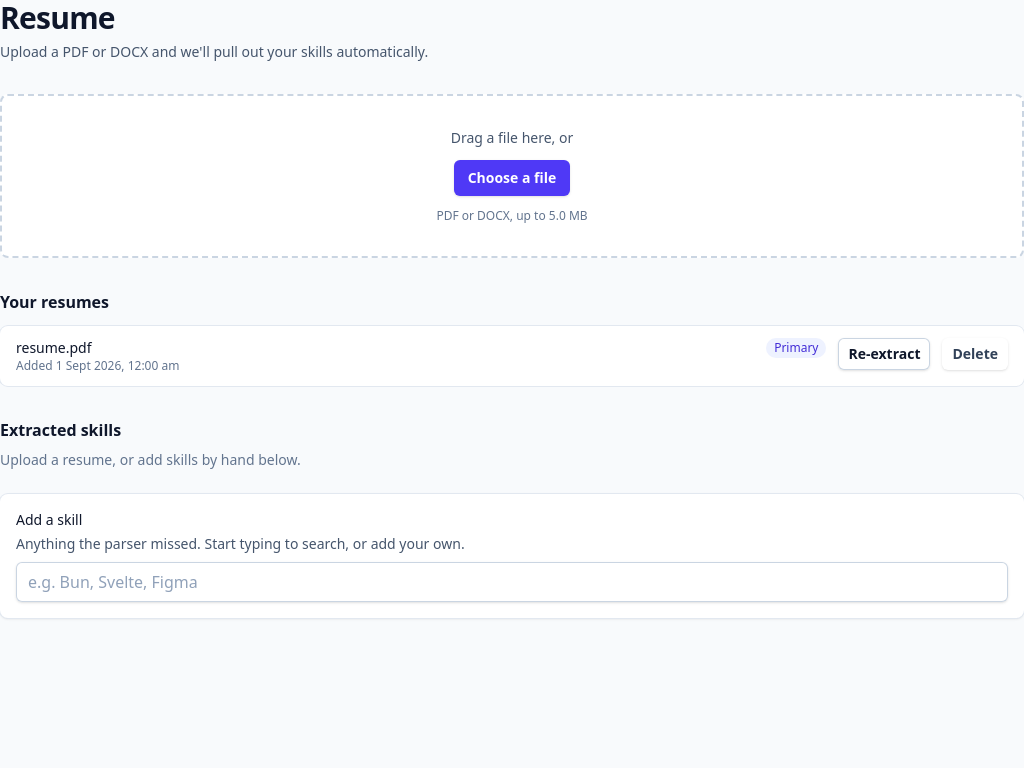
Test: ResumePage › delete › names the consequence and removes the resume on confirm
Click the button "Delete".
click(975, 354)  # box x1=942 y1=338 x2=1008 y2=370
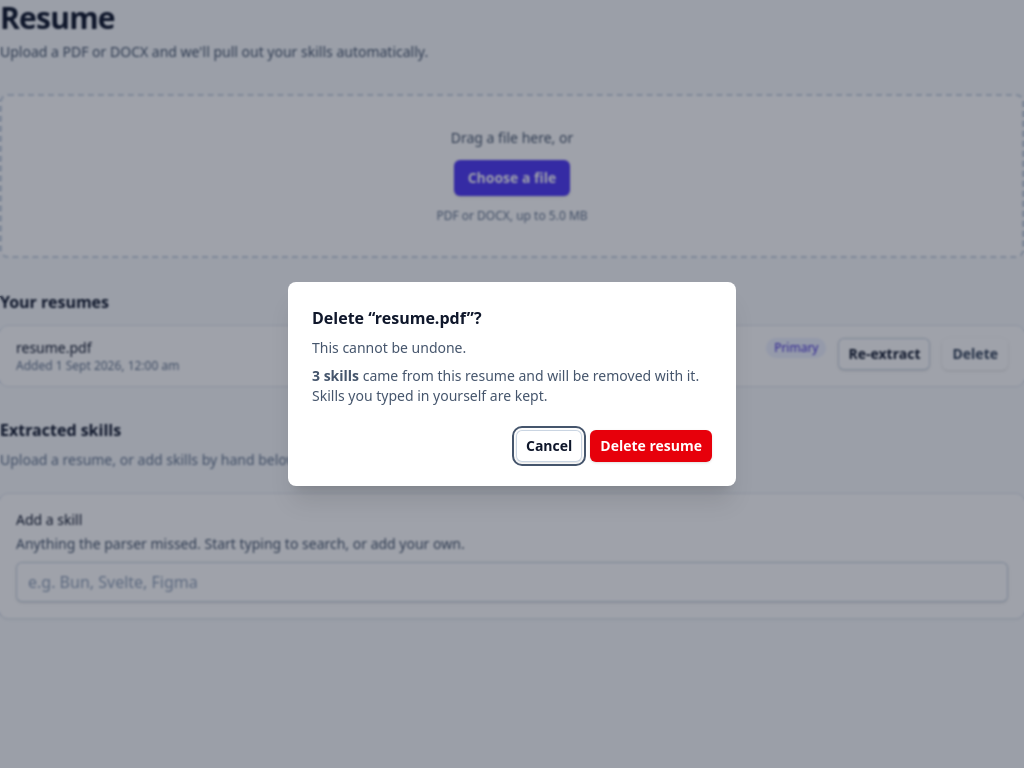
Result: the text "3 skills" is shown at x1=312 y1=366 x2=359 y2=385
Click the button "Delete resume".
click(651, 446)  # box x1=590 y1=430 x2=712 y2=462
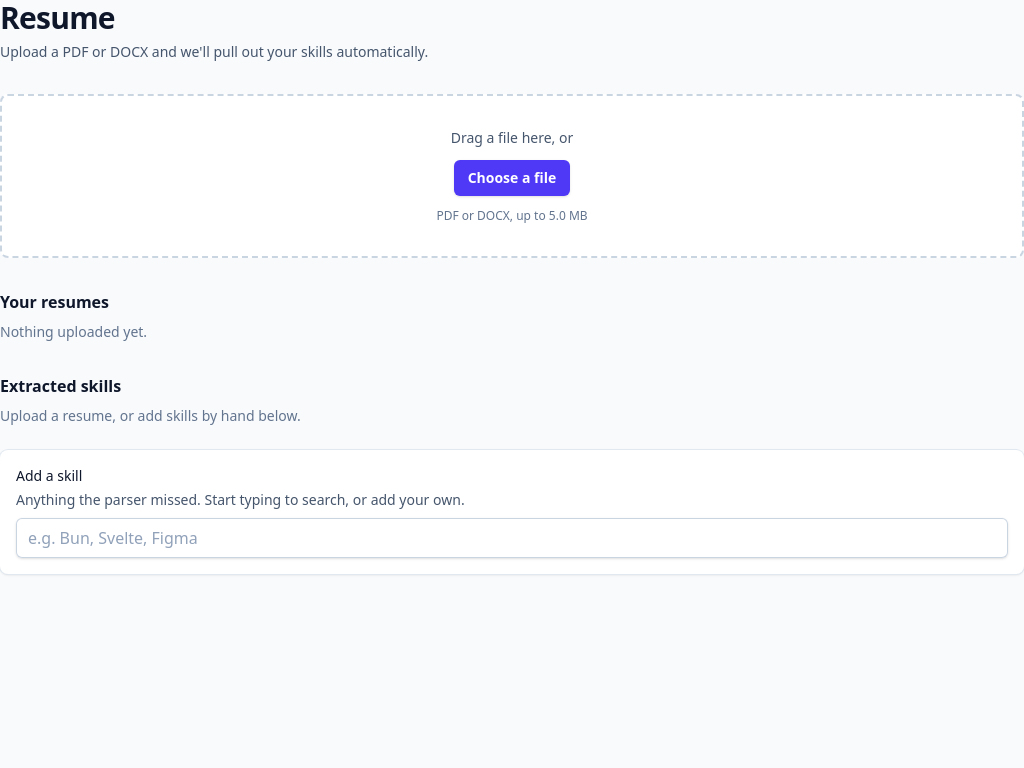
Result: the text "Nothing uploaded yet." is shown at x1=0 y1=322 x2=147 y2=341
